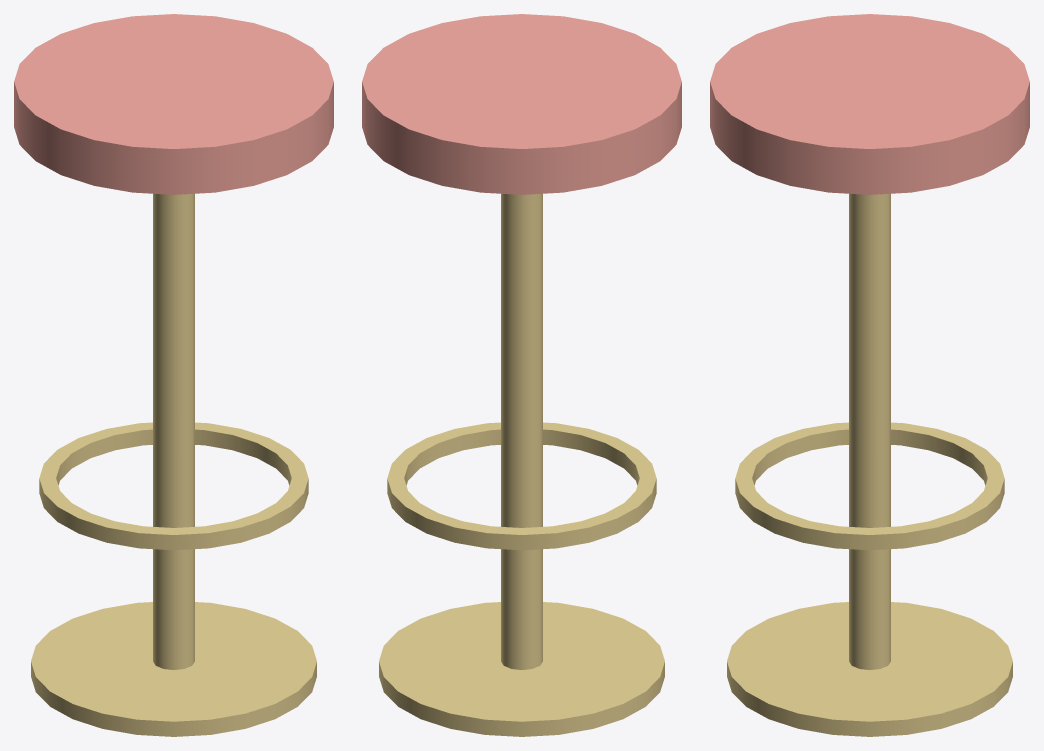
The model's file is bb_set_barstool.fbx.
The picture shows the model from 3 angles, left to right: view 1: azimuth 30°, elevation 25°; view 2: azimuth 150°, elevation 25°; view 3: azimuth 270°, elevation 25°; orthographic projection.
Visible parts, largest first — view 1: bb_set_barstool; view 2: bb_set_barstool; view 3: bb_set_barstool.
Boxes of the visible parts, x1,y1,x2,y2 form: bb_set_barstool: [14, 14, 333, 736]; bb_set_barstool: [362, 14, 681, 736]; bb_set_barstool: [710, 14, 1029, 736].
Size of the model in its own units: 0.38 by 0.78 by 0.38.
